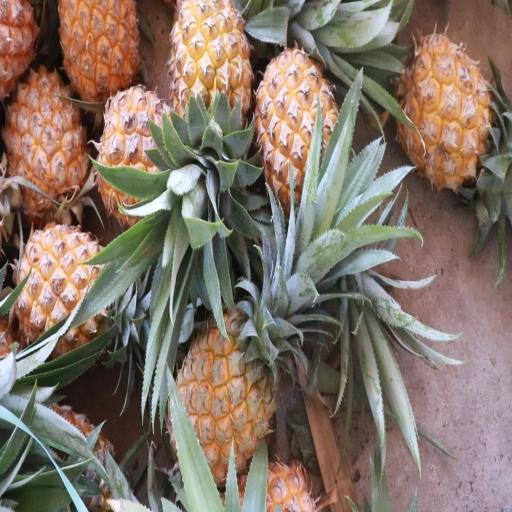Pineapple - v8 v1: (163, 301, 297, 494), (396, 26, 500, 208), (251, 43, 352, 229), (164, 0, 257, 197), (16, 217, 131, 375), (94, 83, 196, 253), (0, 58, 94, 233), (53, 0, 143, 115)
